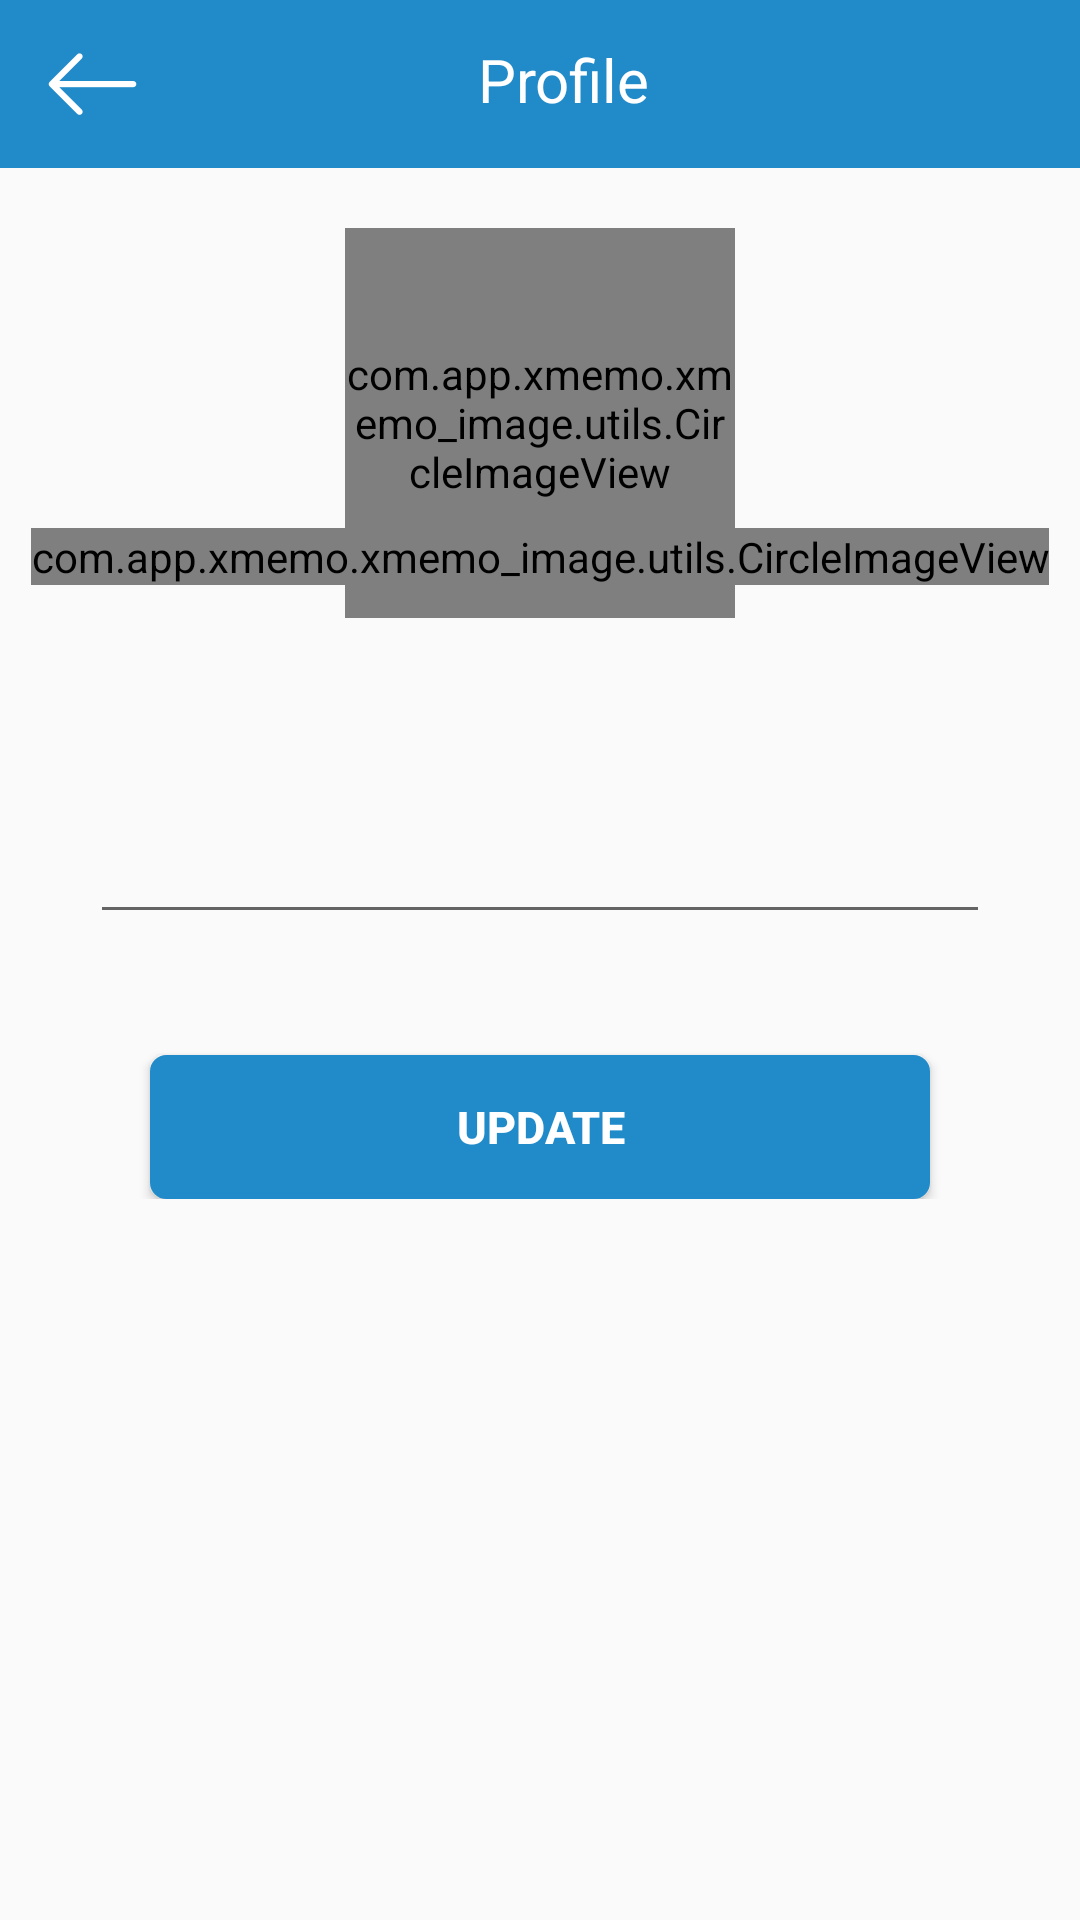

Icon click points for this 1080 × 1920 phone screenshot, format [x,y]:
back arrow: [92,84]
